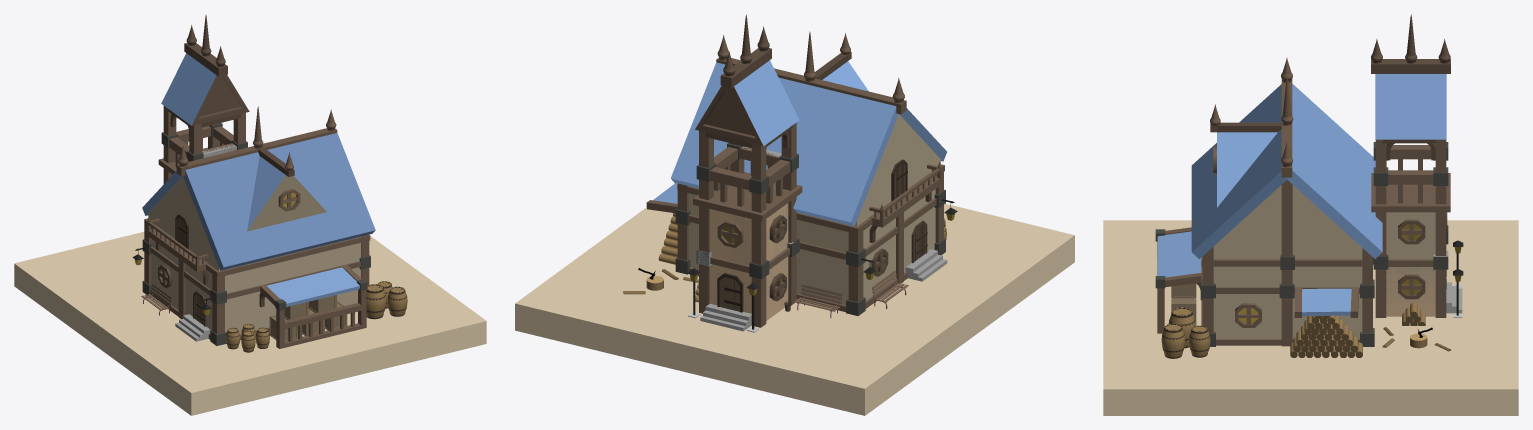
Rendered from housee 7799100.fbx.
3 views of the same model, side by side, from view 1: azimuth 30°, elevation 25°; view 2: azimuth 150°, elevation 25°; view 3: azimuth 270°, elevation 25° (orthographic). The views are drawn at different scales.
Parts seen in each view (by area): view 1: pCube173, pCube87, pCube63, pCube35, pCube122, pCube126, pCube64, pCube76, pCube78, pCube133, pCube79, pCube73 (+4 smaller); view 2: pCube173, pCube88, pCube63, pCube35, pCube3, pCube8, pCube5, pCube4, pCube2, pCube7, pCube64, pCube122 (+14 smaller); view 3: pCube173, pCube63, pCube88, pCube87, pCube35, pCube2, pCube122, pCube4, pCube5, pCube126, pCube158, pCube3 (+14 smaller).
Boxes of the visible parts, box(x1,y1,x2,y2) form: pCube173: box(14, 232, 486, 415); pCube87: box(183, 133, 375, 270); pCube63: box(148, 176, 360, 334); pCube35: box(161, 43, 249, 125); pCube122: box(247, 146, 326, 231); pCube126: box(267, 267, 359, 306); pCube64: box(176, 128, 337, 176); pCube76: box(144, 218, 370, 277); pCube78: box(150, 247, 360, 299); pCube133: box(280, 303, 364, 329); pCube79: box(148, 227, 207, 271); pCube73: box(212, 274, 224, 334); pCube173: box(515, 203, 1074, 415); pCube88: box(670, 62, 898, 226); pCube63: box(688, 114, 940, 304); pCube35: box(695, 48, 799, 146); pCube3: box(710, 203, 788, 320); pCube8: box(751, 143, 766, 327); pCube5: box(699, 130, 713, 313); pCube4: box(693, 172, 802, 221); pCube2: box(710, 203, 788, 315); pCube7: box(781, 122, 796, 305); pCube64: box(716, 58, 906, 114); pCube122: box(814, 52, 868, 91); pCube173: box(1103, 220, 1518, 415); pCube63: box(1213, 185, 1362, 339); pCube88: box(1285, 84, 1382, 258); pCube87: box(1191, 84, 1288, 258); pCube35: box(1371, 59, 1450, 139); pCube2: box(1386, 212, 1435, 312); pCube122: box(1210, 122, 1287, 207); pCube4: box(1371, 173, 1450, 212); pCube5: box(1435, 139, 1446, 317); pCube126: box(1157, 231, 1201, 277); pCube158: box(1281, 180, 1292, 346); pCube3: box(1386, 235, 1435, 316).
Size of the model in its own units: 36.84 by 32.2 by 38.28.
